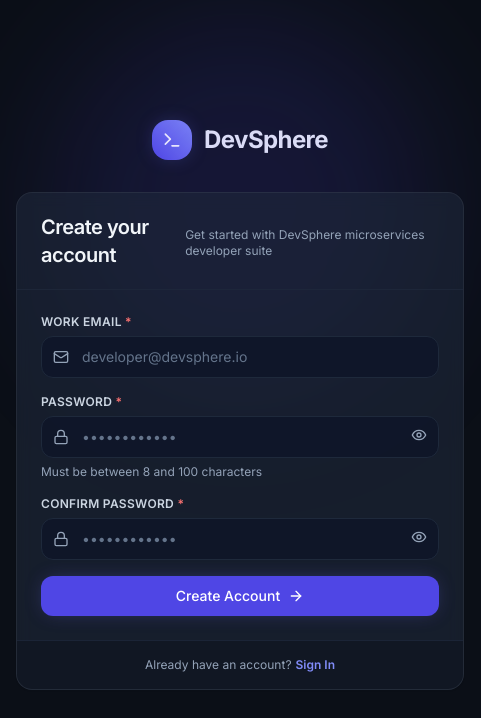
Test case: RegisterPage › validates password mismatch on registration submission
This screenshot has width=481, height=718.
Type "newuser@devsphere.io" into the field with placeholder "developer@devsphere.io" at {"x": 240, "y": 357}, box top-left (41, 336), bottom-right (439, 378)
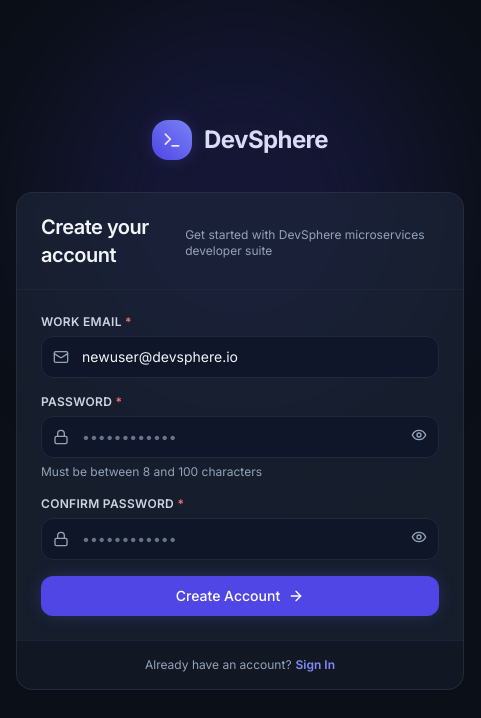
Type "SecurePass123!" into the password field with placeholder "••••••••••••" at {"x": 240, "y": 437}, box top-left (41, 416), bottom-right (439, 458)
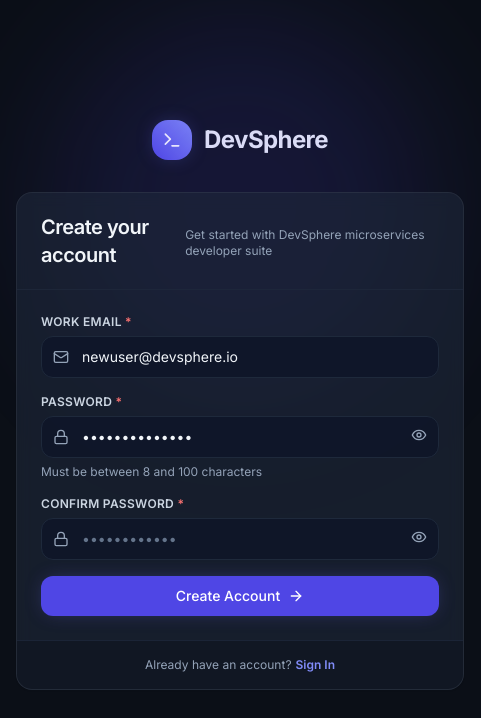
Type "MismatchPass" into the password field with placeholder "••••••••••••" at {"x": 240, "y": 539}, box top-left (41, 518), bottom-right (439, 560)
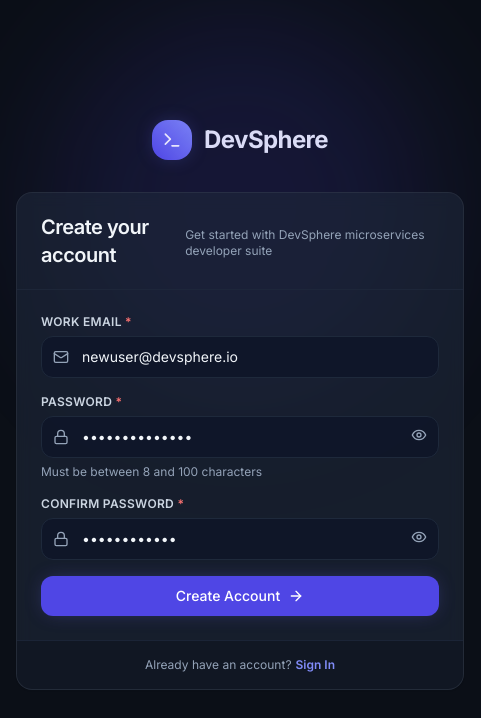
Click the button "Create Account" at {"x": 240, "y": 596}, box top-left (41, 576), bottom-right (439, 616)
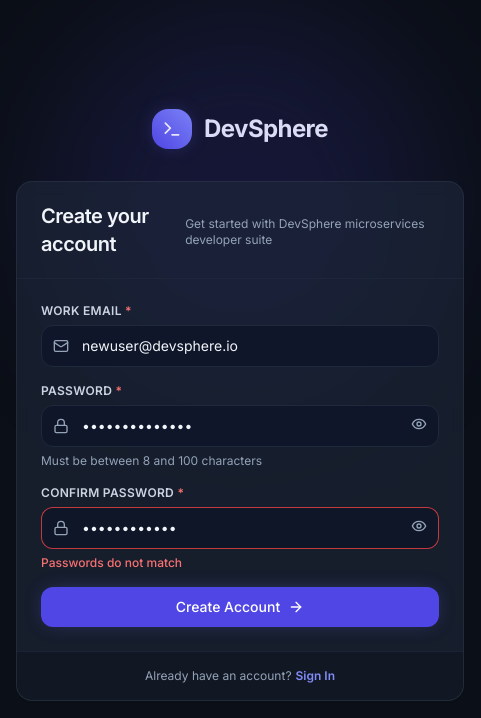
Check: the text "Passwords do not match" is shown, box top-left (41, 555), bottom-right (182, 570)
